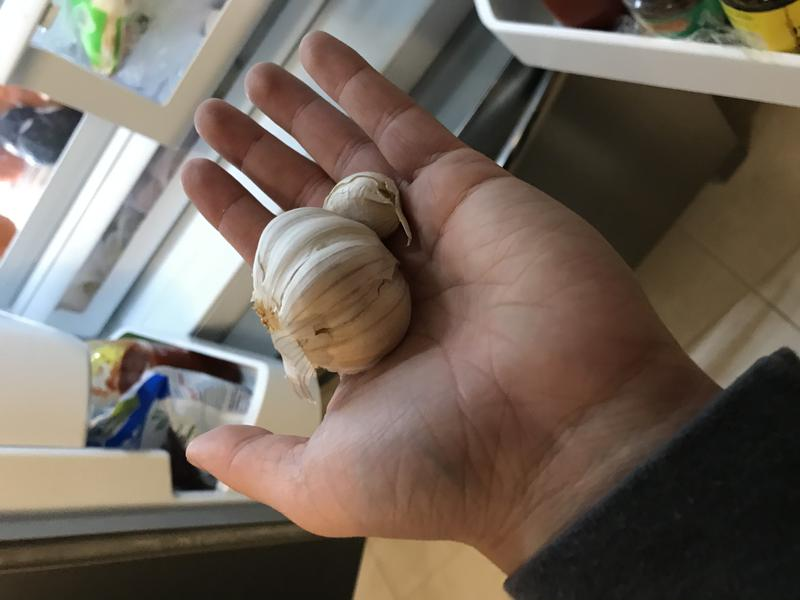garlic: (238, 163, 417, 377)
